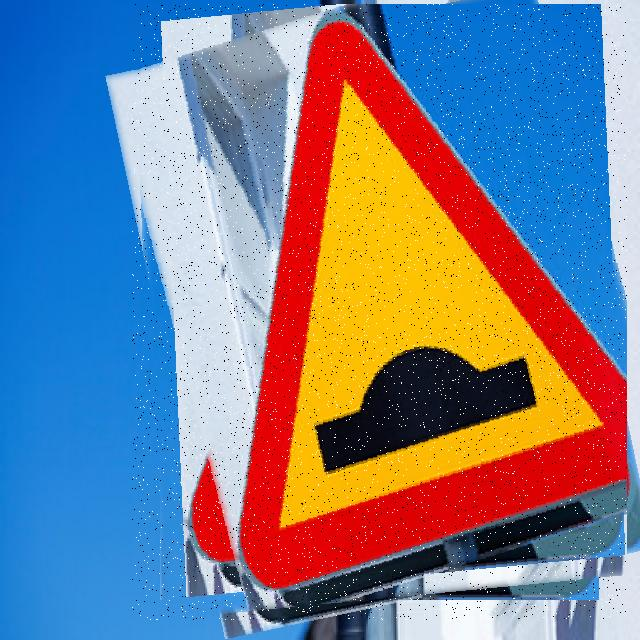hump: (132, 4, 627, 620)
